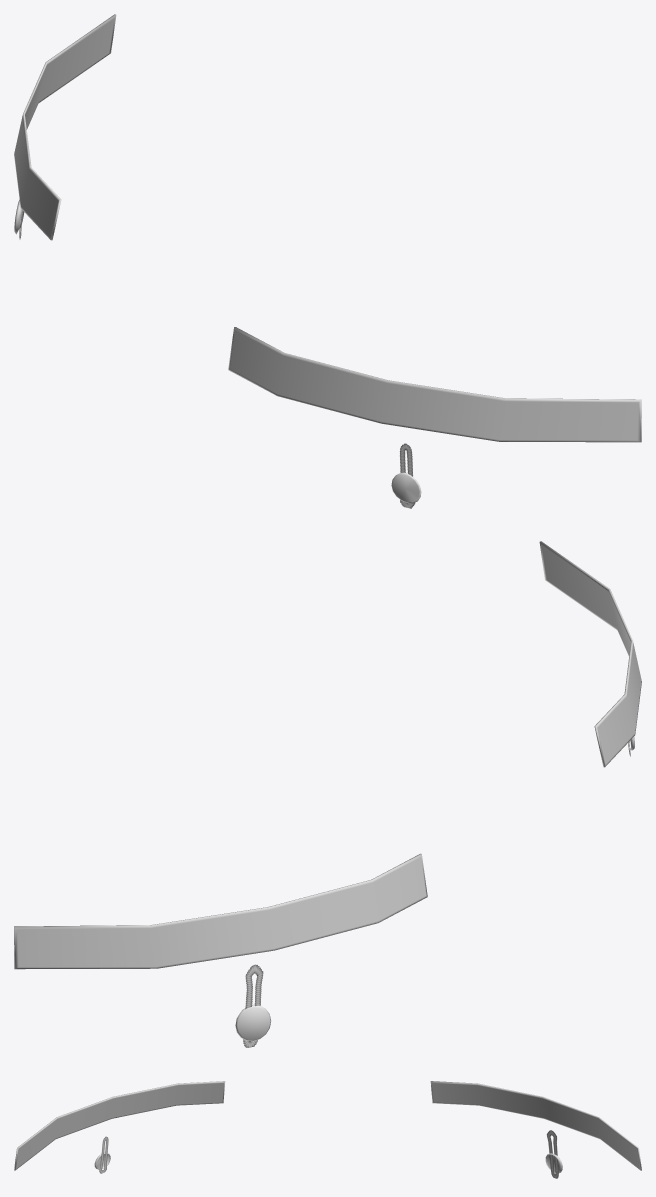
Rendered from two_welted_pockets_with_buttons.glb.
3 views of the same model, one above another, from view 1: azimuth 30°, elevation 25°; view 2: azimuth 150°, elevation 25°; view 3: azimuth 270°, elevation 25° (orthographic). The views are drawn at different scales.
Visible parts, largest first — view 1: SM_T_Right_welted_pocket, SM_T_Left_welted_pocket, SM_T_B_Right_pocket_without welted; view 2: SM_T_Left_welted_pocket, SM_T_Right_welted_pocket, SM_T_B_Left_pocket_Without Welted; view 3: SM_T_Right_welted_pocket, SM_T_Left_welted_pocket, SM_T_B_Left_pocket_Without Welted, SM_T_B_Right_pocket_without welted.
Boxes of the visible parts, left/top/right/bottom form: SM_T_Right_welted_pocket: left=228, top=327, right=641, bottom=442; SM_T_Left_welted_pocket: left=14, top=14, right=116, bottom=240; SM_T_B_Right_pocket_without welted: left=391, top=443, right=421, bottom=508; SM_T_Left_welted_pocket: left=14, top=853, right=427, bottom=969; SM_T_Right_welted_pocket: left=539, top=541, right=641, bottom=767; SM_T_B_Left_pocket_Without Welted: left=235, top=964, right=270, bottom=1047; SM_T_Right_welted_pocket: left=14, top=1081, right=225, bottom=1170; SM_T_Left_welted_pocket: left=430, top=1081, right=641, bottom=1170; SM_T_B_Left_pocket_Without Welted: left=545, top=1130, right=562, bottom=1178; SM_T_B_Right_pocket_without welted: left=94, top=1136, right=110, bottom=1173.
Size of the model in its own units: 0.4619 by 0.25 by 1.78.
Materials: 3 (1 with a texture image).
